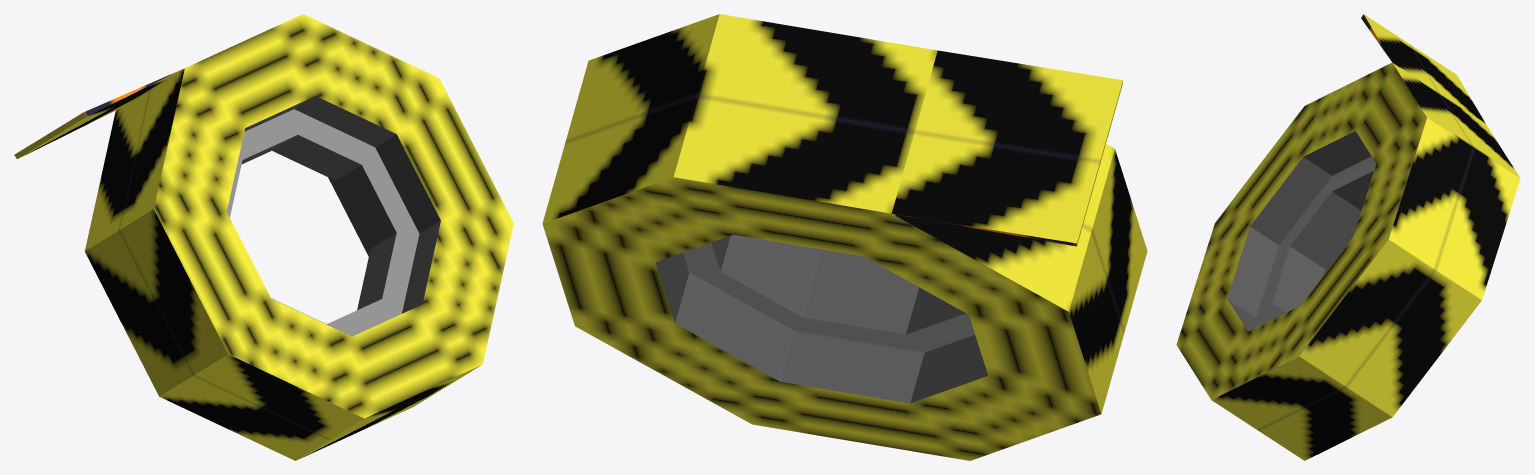
File: Lenta.fbx
3 views of the same model, side by side, from view 1: azimuth 30°, elevation 25°; view 2: azimuth 150°, elevation 25°; view 3: azimuth 270°, elevation 25° (orthographic). The views are drawn at different scales.
Visible parts, largest first — view 1: Окружность; view 2: Окружность; view 3: Окружность.
Part boxes in pixels (x1,y1,x2,y2): Окружность: (14, 14, 513, 460); Окружность: (542, 14, 1147, 460); Окружность: (1176, 14, 1520, 460).
Bounding box in the file's own units: 21.39 × 17.85 × 16.87.
1 material, 1 textured.
